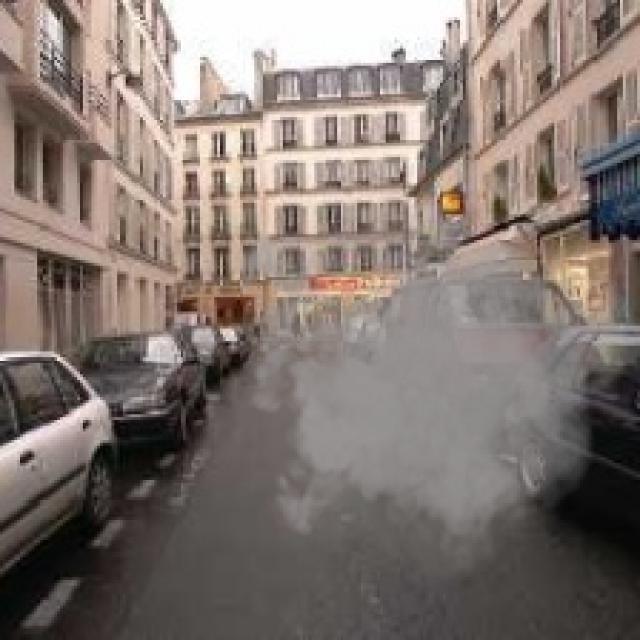Smoke: (225, 172, 638, 597)
